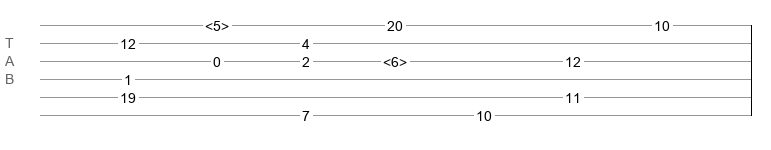0: (213, 54, 221, 64)
1: (124, 72, 132, 82)
10: (476, 108, 492, 118), (654, 18, 670, 28)
11: (565, 90, 581, 100)
12: (120, 36, 136, 46), (565, 54, 581, 64)
19: (120, 90, 136, 100)
2: (302, 54, 310, 64)
20: (387, 18, 403, 28)
4: (302, 36, 310, 46)
7: (302, 108, 310, 118)
harmonic: (205, 18, 229, 28), (383, 54, 407, 64)
